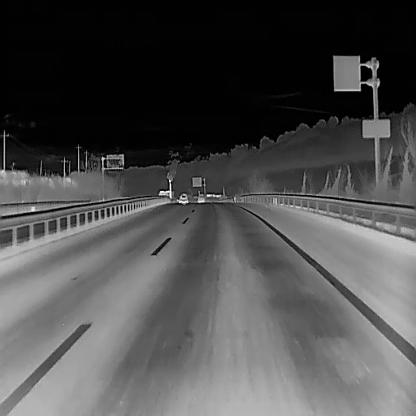car: (176, 190, 189, 204), (196, 192, 204, 202)
